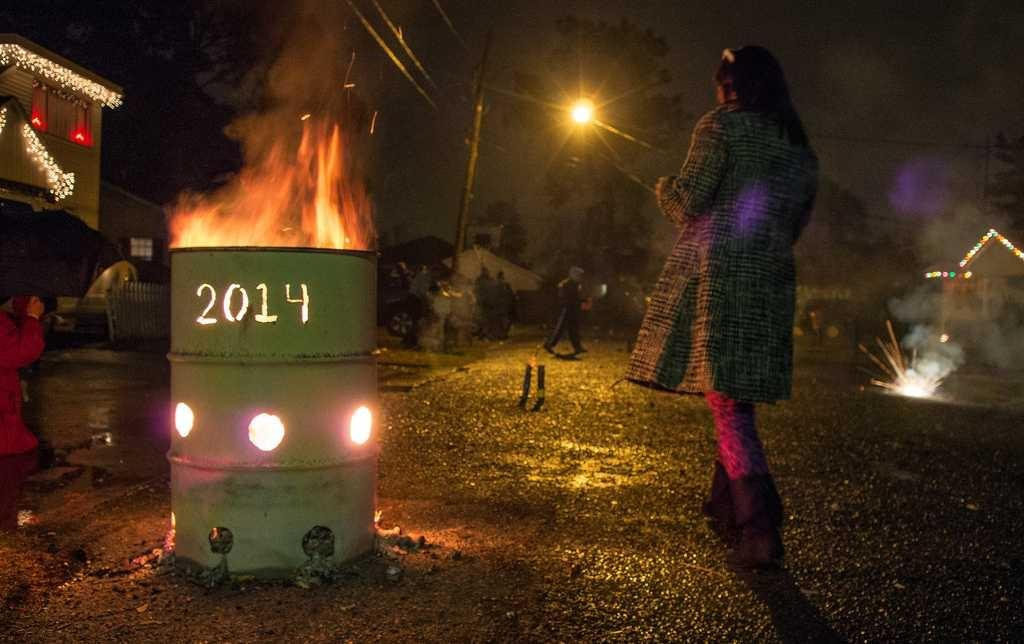fire: (166, 165, 386, 243), (876, 363, 948, 401), (560, 85, 606, 135)
smoke: (244, 33, 366, 140)
